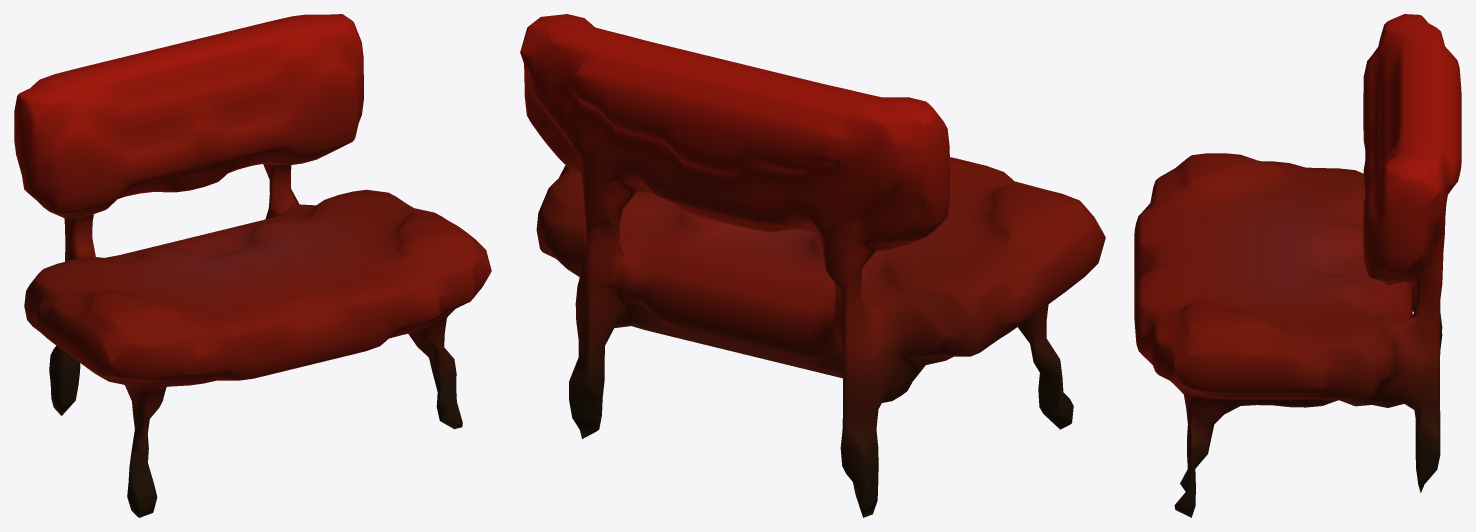
The model's file is SheenChair_256B_voxs.glb.
3 renders of one model, left to right at view 1: azimuth 30°, elevation 25°; view 2: azimuth 150°, elevation 25°; view 3: azimuth 270°, elevation 25°, orthographic. The views are drawn at different scales.
Size of the model in its own units: 2 by 1.66 by 1.41.
